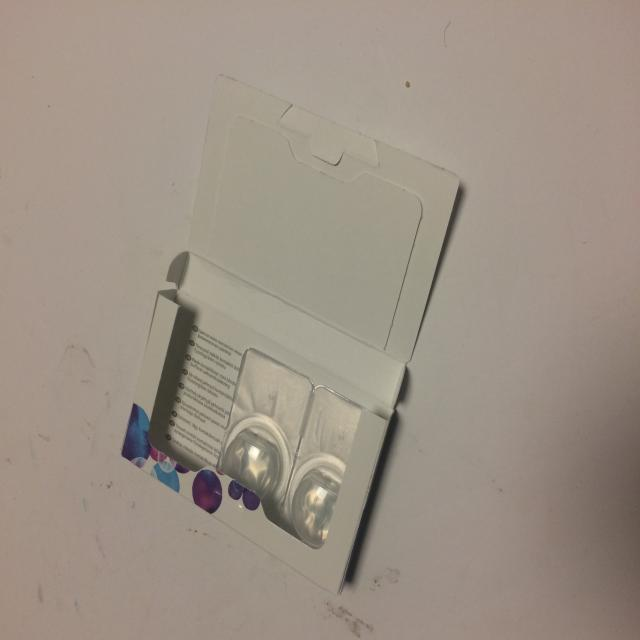trash: (120, 73, 459, 596)
